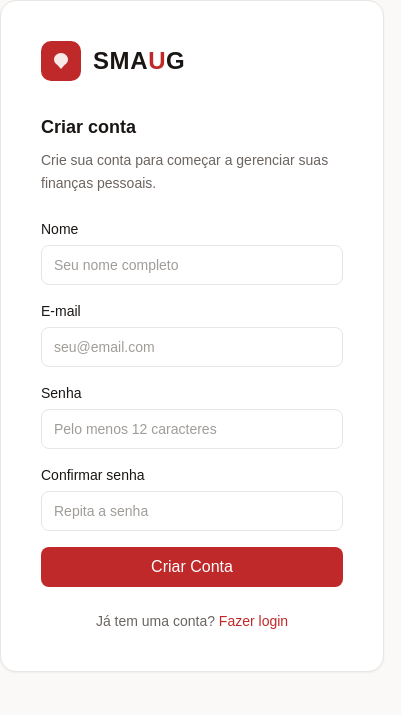
Test: página de cadastro › com a confirmação divergente mostra o erro no campo e não envia nada
The width and height of the screenshot is (401, 715).
Type "Maria Souza" into the field labelled "Nome". click: (192, 264)
box: 41,244 -> 343,284
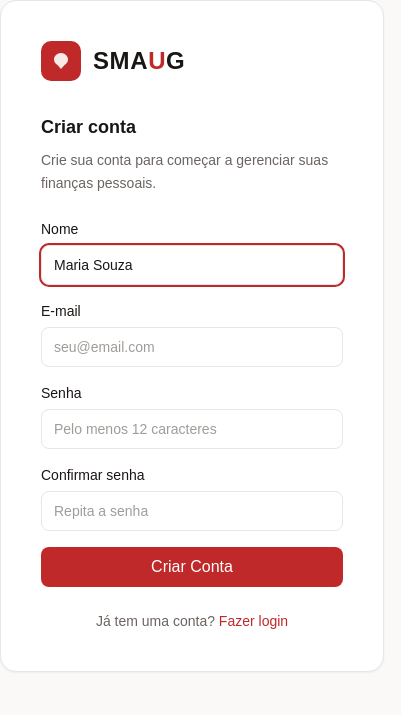
Type "maria@example.com" into the field labelled "E-mail". click: (192, 346)
box: 41,326 -> 343,366
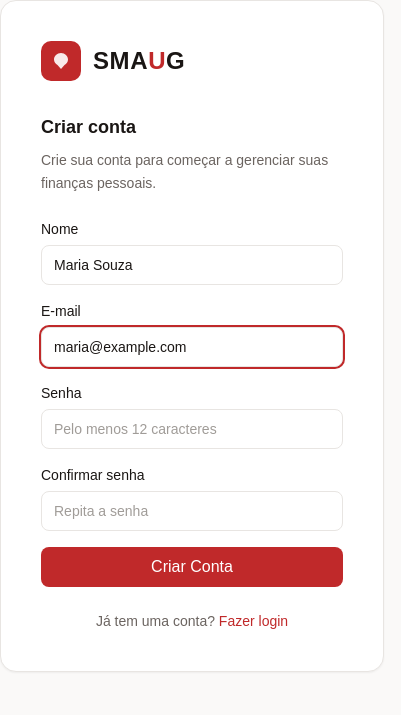
Type "senha muito segura" into the password field labelled "Senha". click: (192, 428)
box: 41,408 -> 343,448
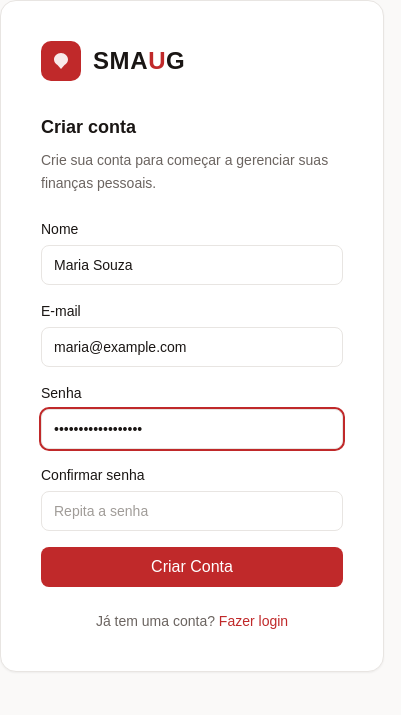
Type "outra senha qualquer" into the password field labelled "Confirmar senha". click: (192, 510)
box: 41,490 -> 343,530
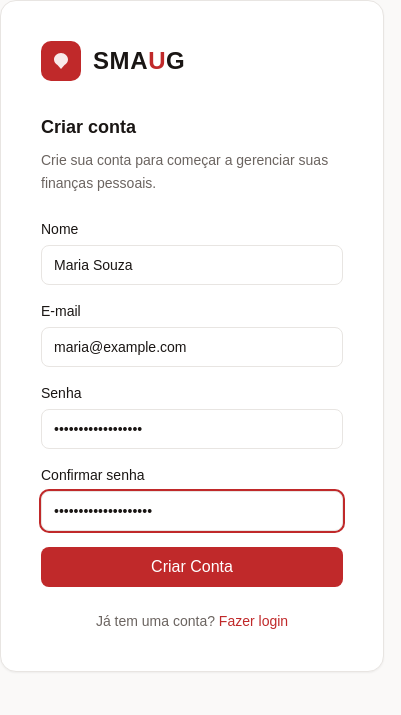
Click the button "Criar Conta". click: (192, 566)
box: 41,546 -> 343,586
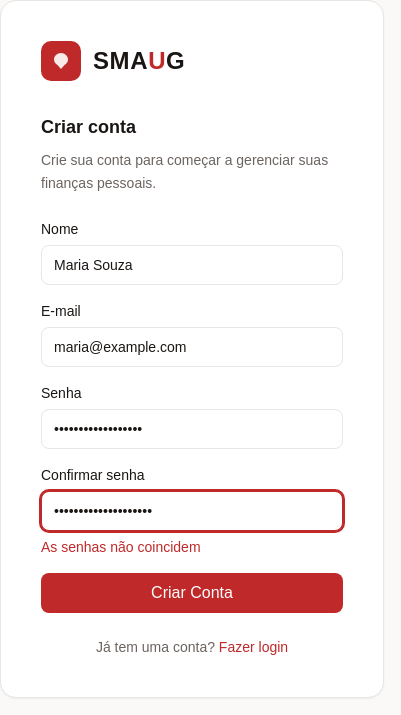
Check: the text "As senhas não coincidem" is shown, box 41,538 -> 200,554
